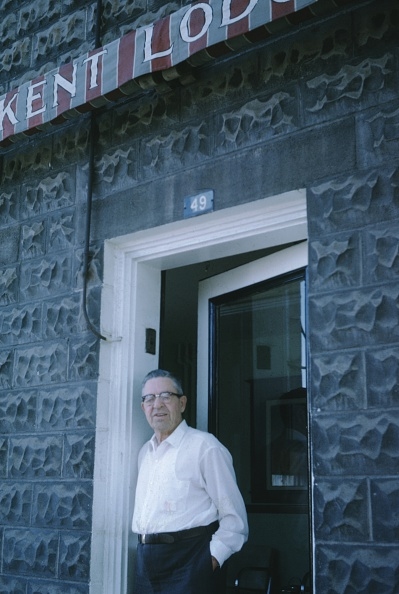em pe: (119, 371, 240, 594)
